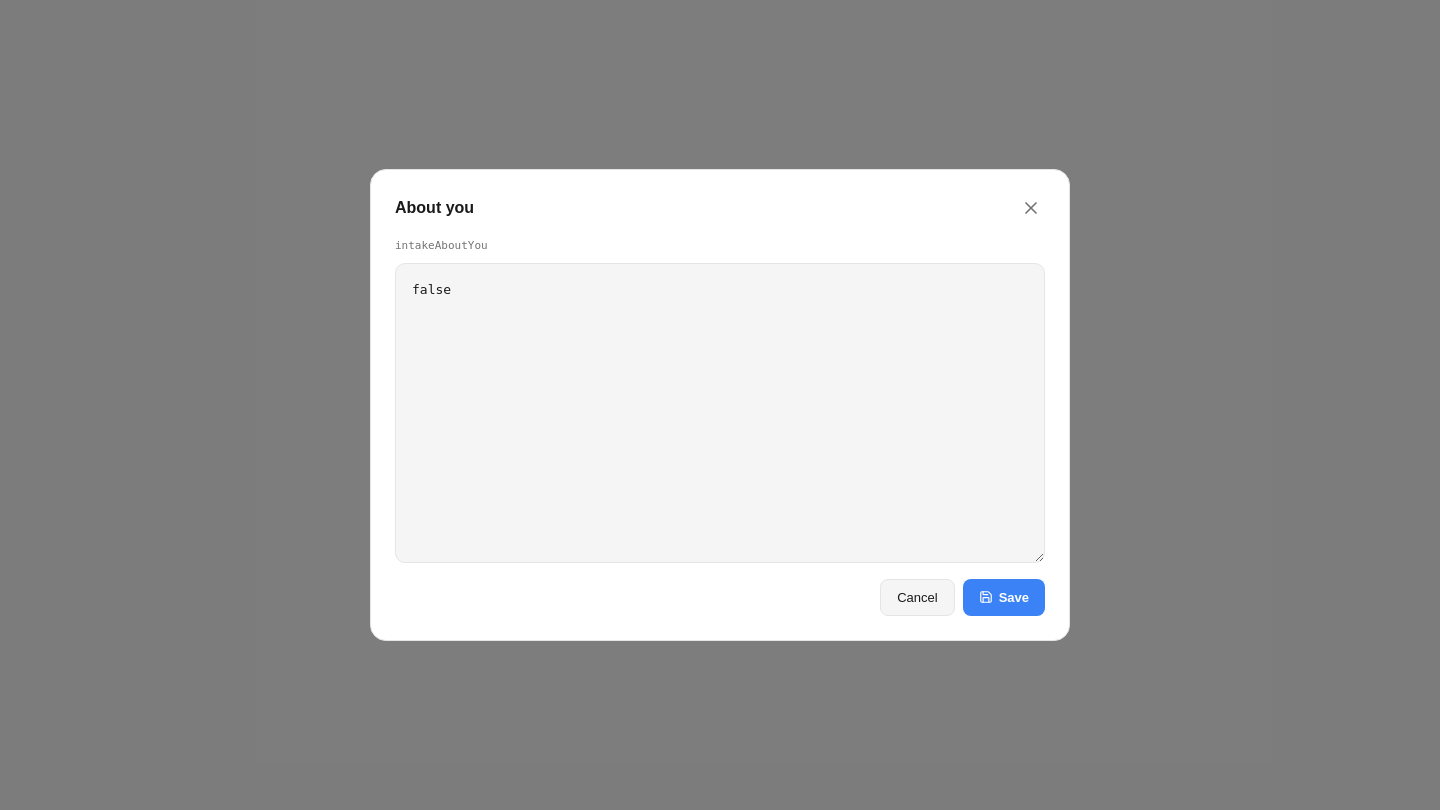
Test case: JsonEditorModal › shows an `Unsaved` chip when the textarea differs from initialText
Expected: the text "Unsaved" is not shown
Replace the text in the text box with test id "hf-json-editor-modal-textarea" with "true": (720, 412) [395,262,1045,562]
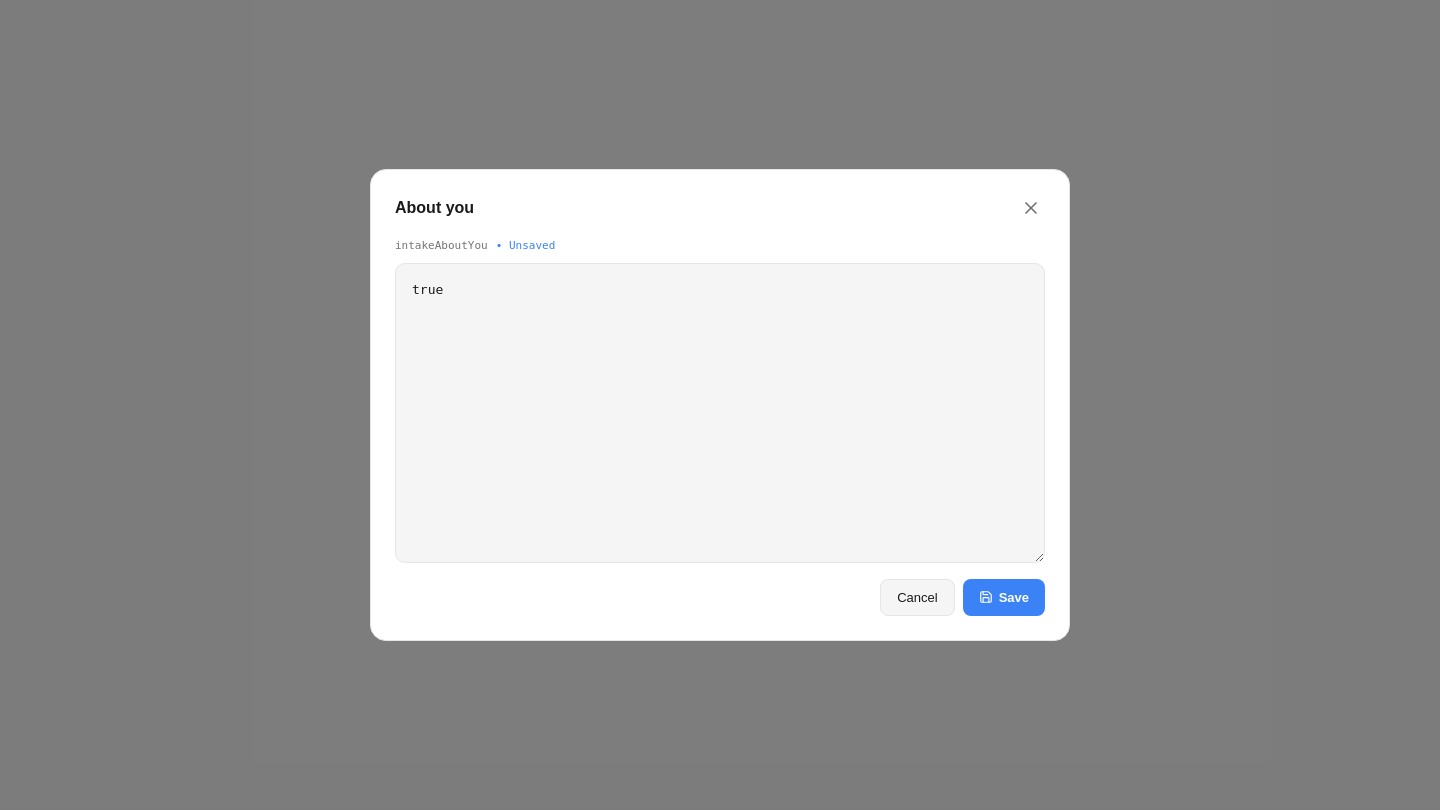
Result: the text "• Unsaved" is shown at [496,239,555,252]
